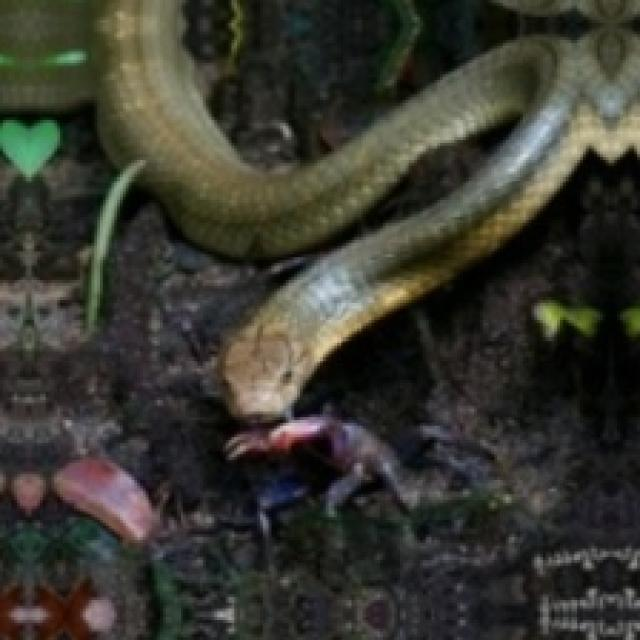king cobra: (0, 0, 637, 414)
